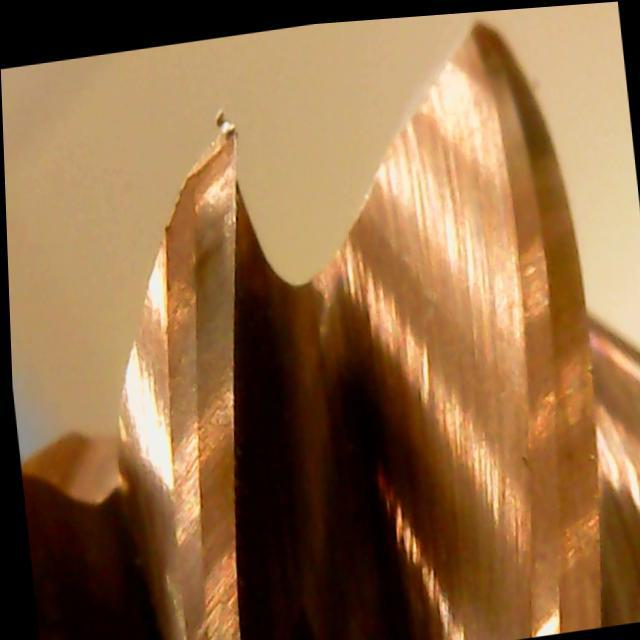Tool-wear-class-0: (123, 113, 285, 487)
